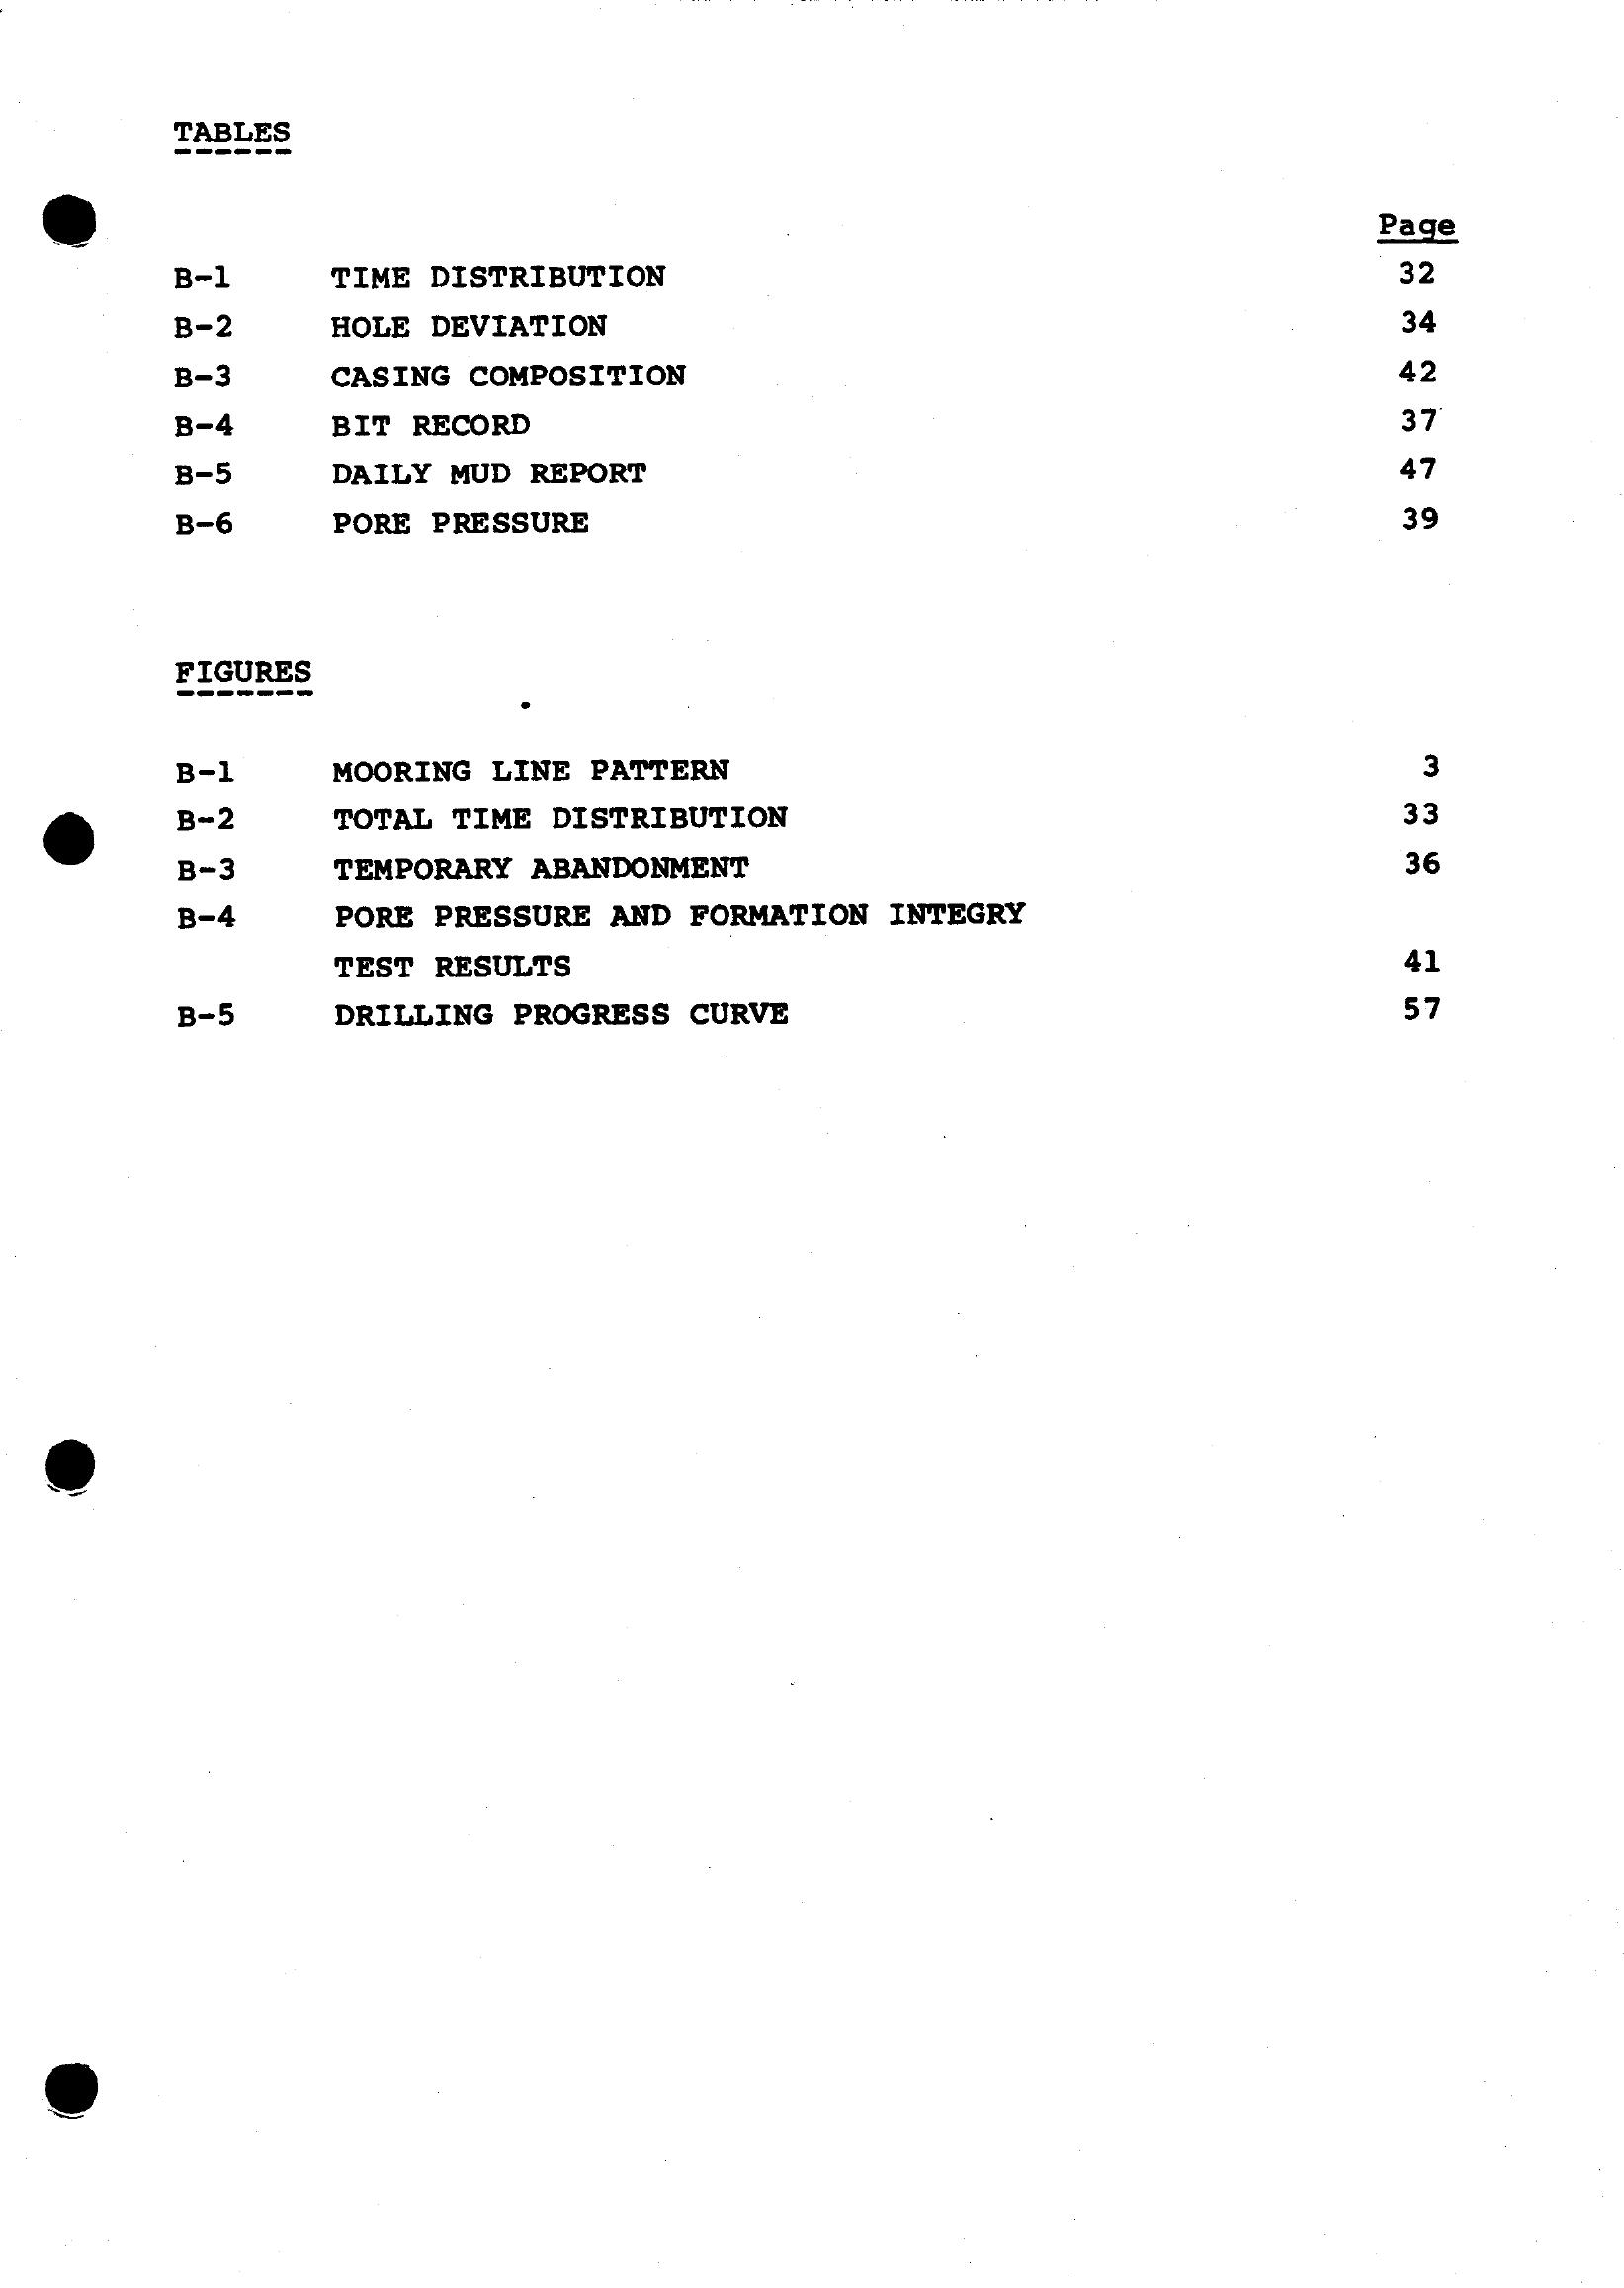text: (118, 86, 1527, 1097)
